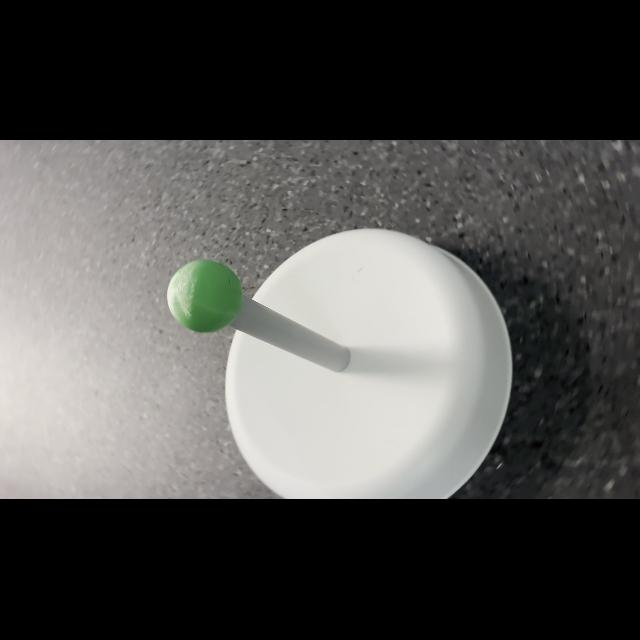objects: (164, 254, 246, 336)
